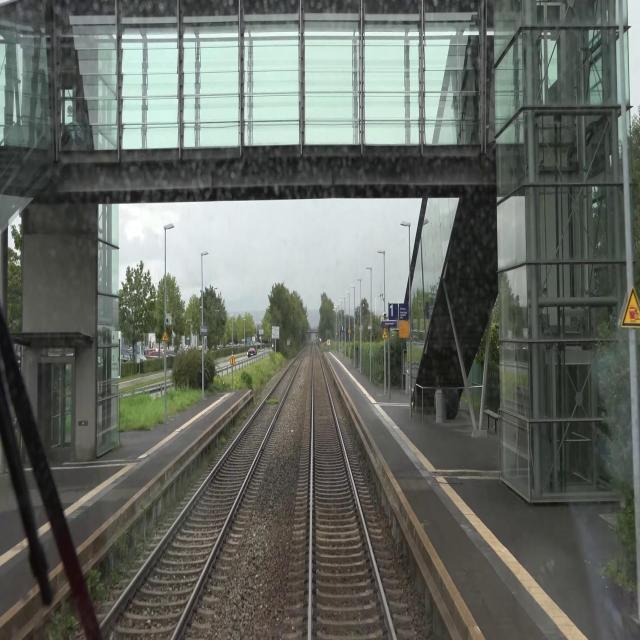rail-track: (103, 355, 301, 639), (312, 348, 392, 639)
